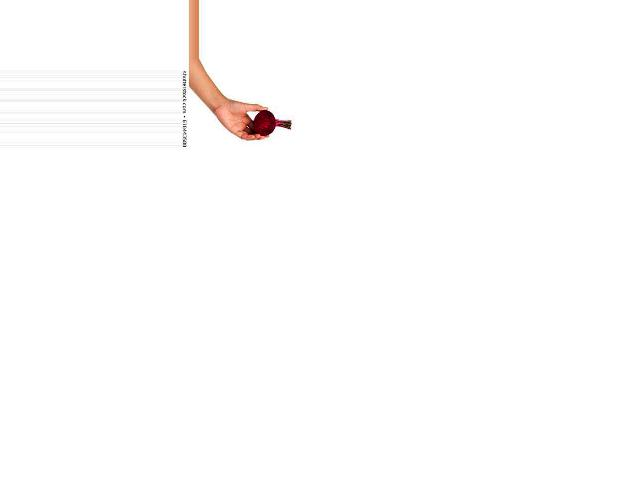beet: (252, 110, 291, 136)
